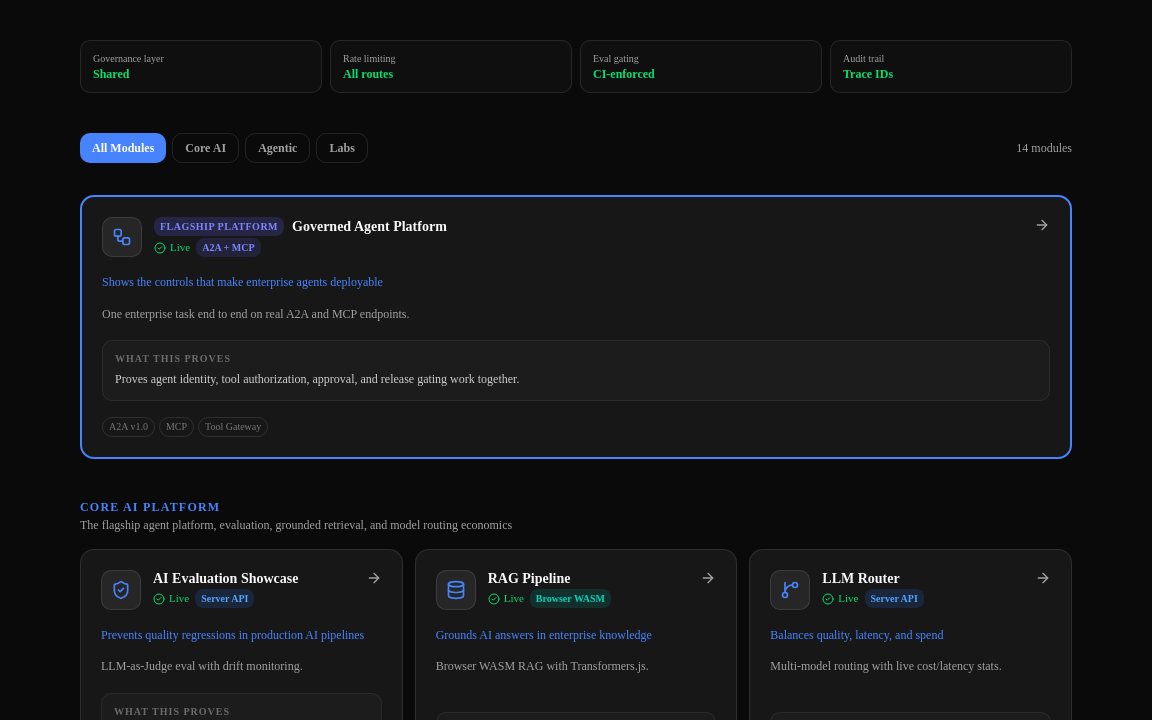
Test: DemosGallery › clicking "Agentic" filter hides Core AI group label
Click the button "Agentic" at (278,148), box top-left (245, 133), bottom-right (310, 163)
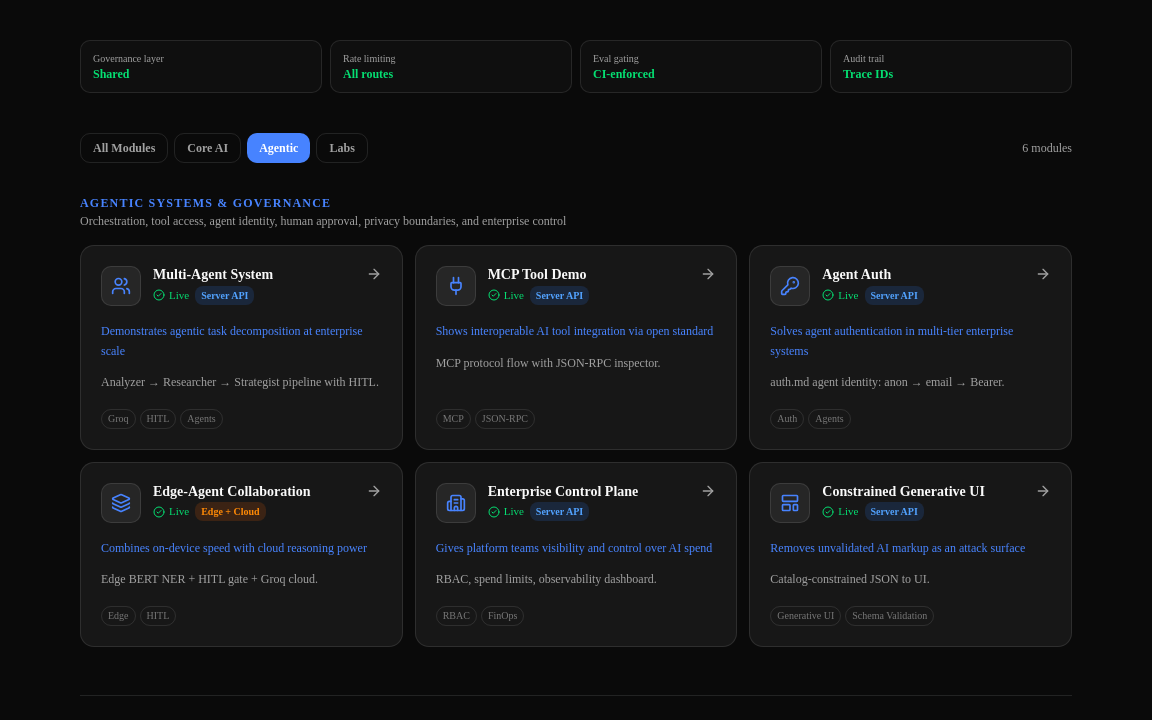
Expected: the text "Agentic Systems & Governance" is shown, top-left (80, 196), bottom-right (331, 210)
Expected: the text "Core AI Platform" is gone
